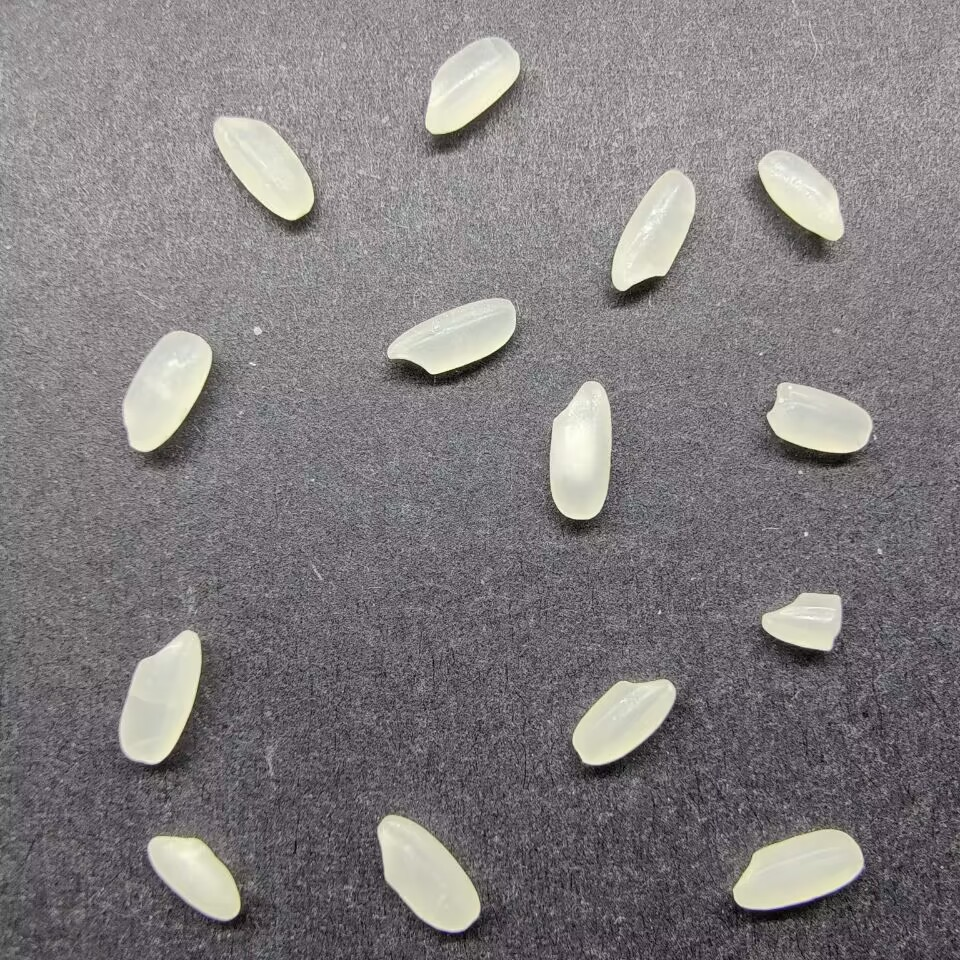broken: (767, 380, 872, 454), (758, 590, 843, 653)
rice: (377, 815, 484, 934), (120, 329, 214, 455), (117, 627, 202, 766), (209, 113, 316, 222), (728, 828, 864, 911), (609, 166, 695, 292), (384, 295, 516, 375), (419, 35, 521, 137), (571, 676, 677, 768), (547, 377, 612, 521), (145, 834, 242, 922), (754, 149, 844, 243)
